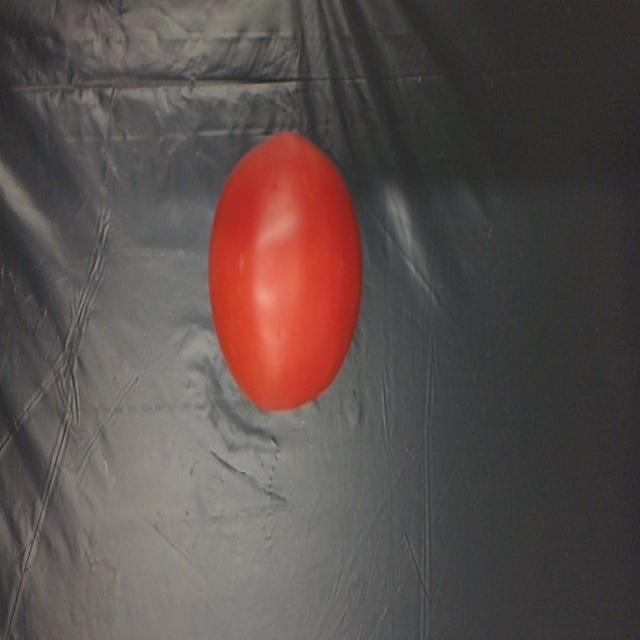kirmizi: (178, 114, 376, 425)
